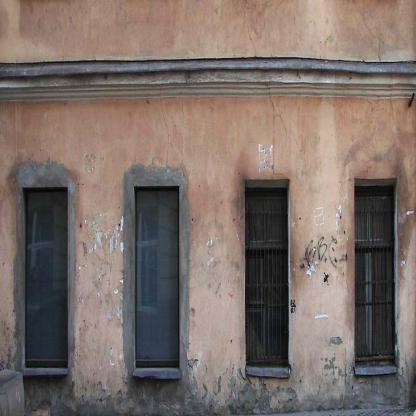Building Outline: (0, 1, 416, 415)
Dont: (0, 362, 24, 415)
Facade: (0, 1, 416, 414)
Floor: (0, 0, 416, 72)
Floor Slab: (0, 72, 416, 98)
Ground Floor: (0, 99, 416, 416)
Sill: (133, 370, 181, 380), (245, 368, 290, 377), (22, 368, 69, 375), (355, 368, 398, 375)
Window: (245, 178, 289, 368), (22, 187, 68, 368), (134, 185, 179, 369), (355, 178, 398, 368)
